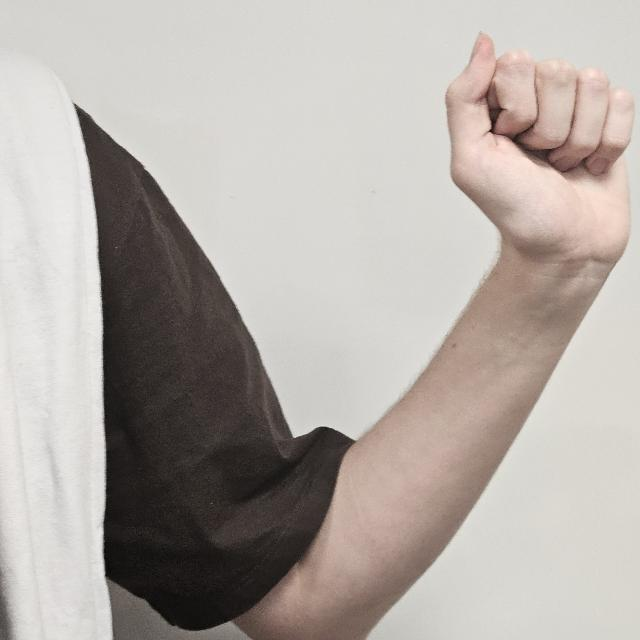Quadro: (442, 30, 636, 264)
